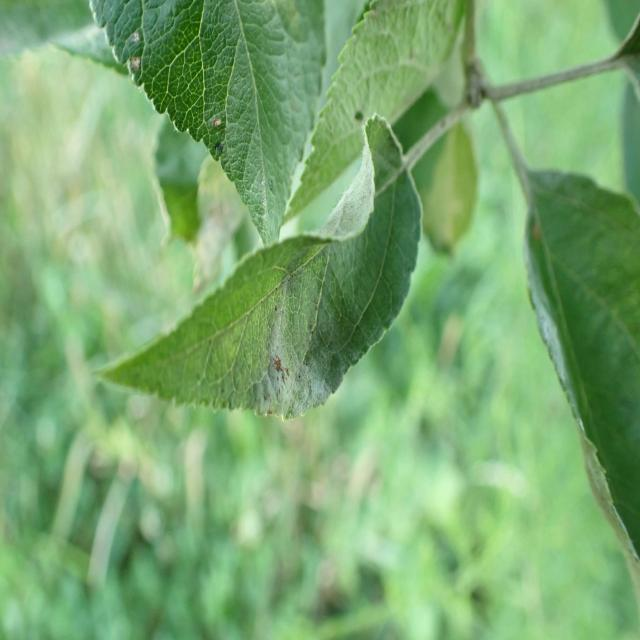Powdery_mildew: (128, 110, 460, 441)
